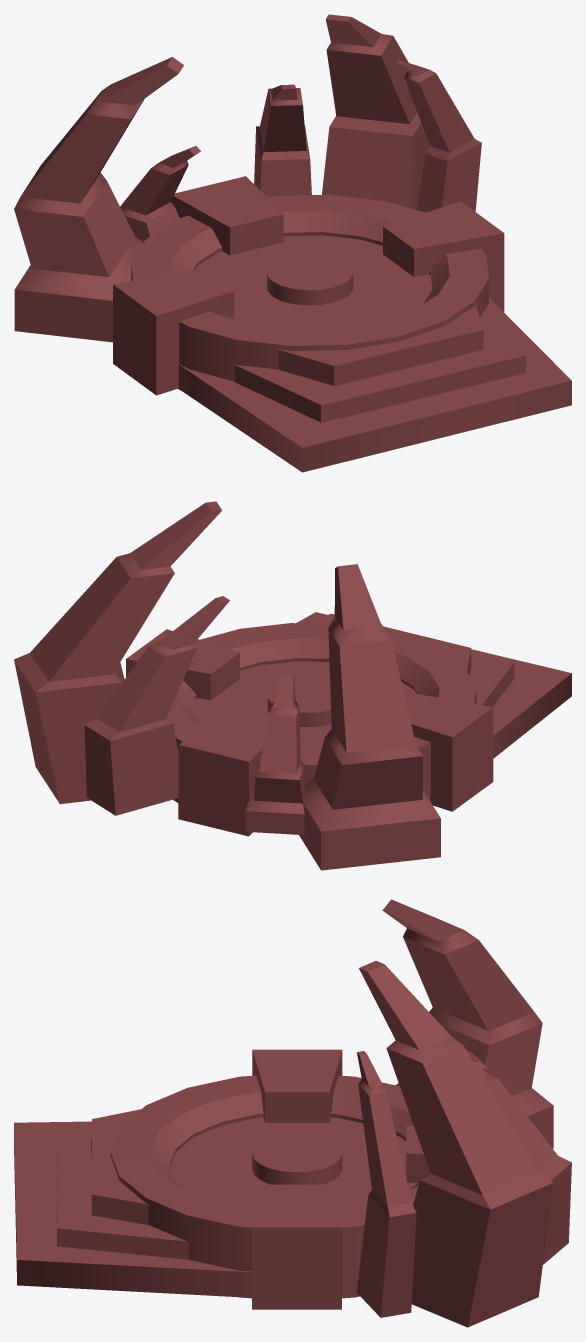
The model's file is SM_FireStand_JG.fbx.
3 views of the same model, one above another, from view 1: azimuth 30°, elevation 25°; view 2: azimuth 150°, elevation 25°; view 3: azimuth 270°, elevation 25° (orthographic). The views are drawn at different scales.
Visible parts, largest first — view 1: Fire_Stand; view 2: Fire_Stand; view 3: Fire_Stand.
Boxes of the visible parts, x1,y1,x2,y2 form: Fire_Stand: (14, 14, 571, 472); Fire_Stand: (14, 501, 571, 870); Fire_Stand: (14, 899, 571, 1327).
Size of the model in its own units: 2 by 1.23 by 2.13.
